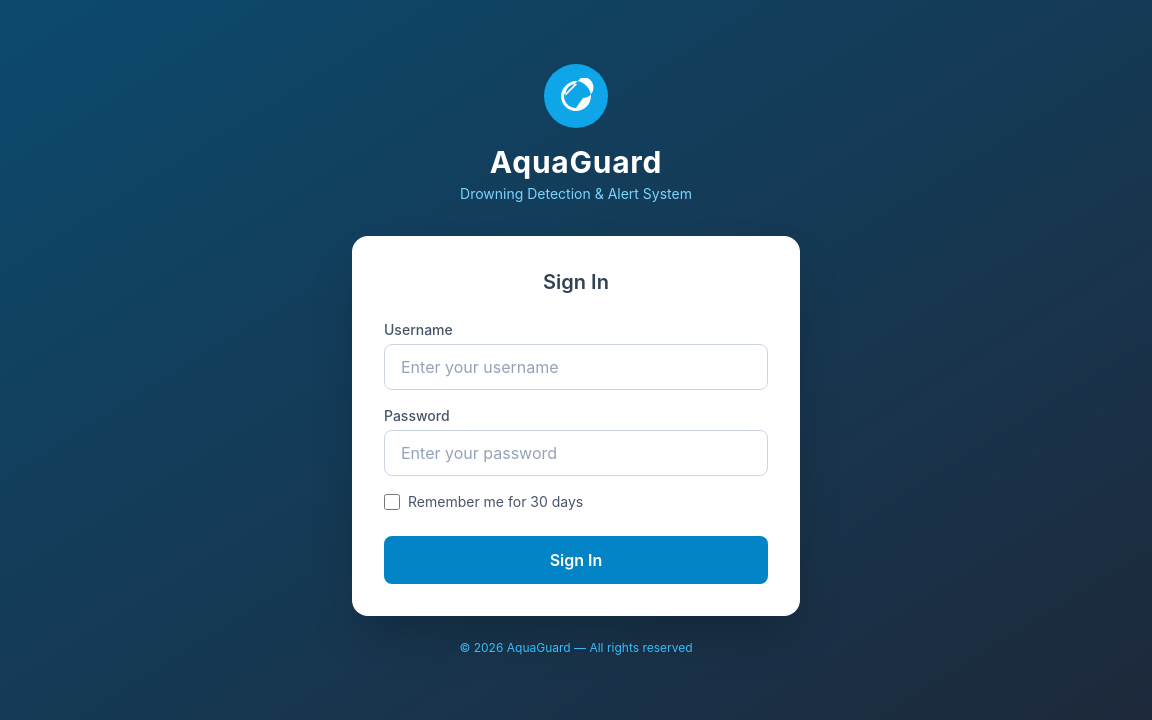
Scenario: LoginPage › shows validation error when password is empty
In the field labelled "Username": (576,367) 384,344 -> 768,390, type "admin"
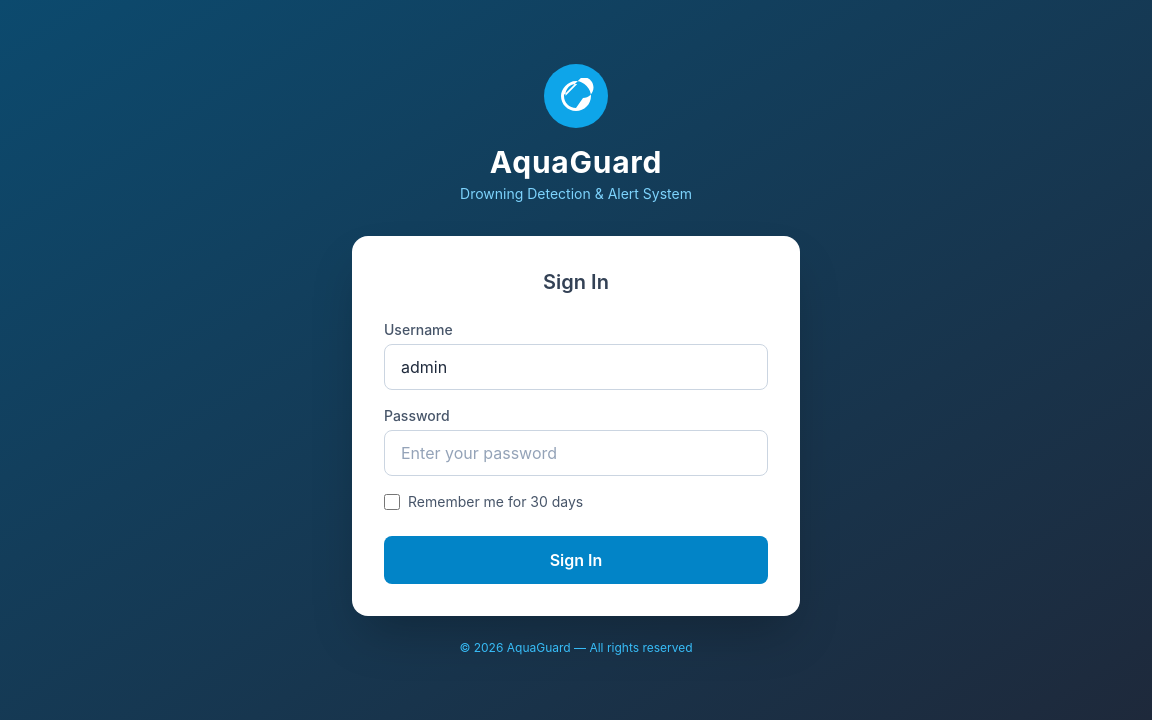
Click the button "Sign In": (576,560) 384,536 -> 768,584
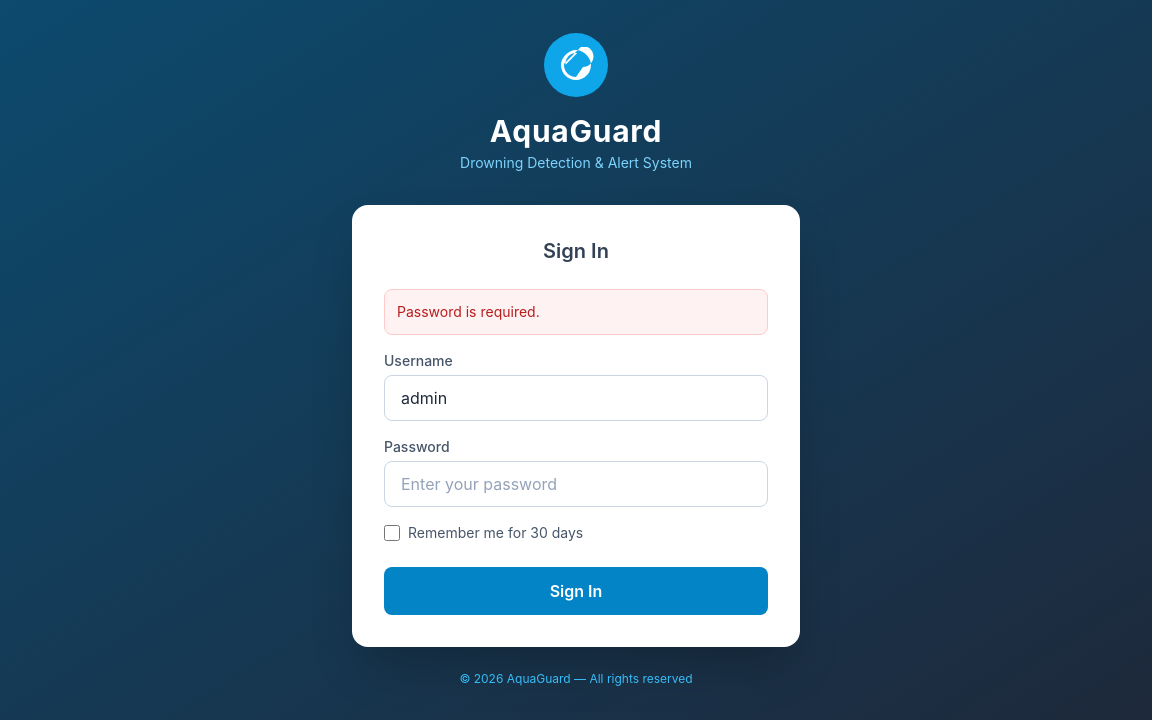
Result: the message reads "Password is required." at 397,303 -> 540,320
